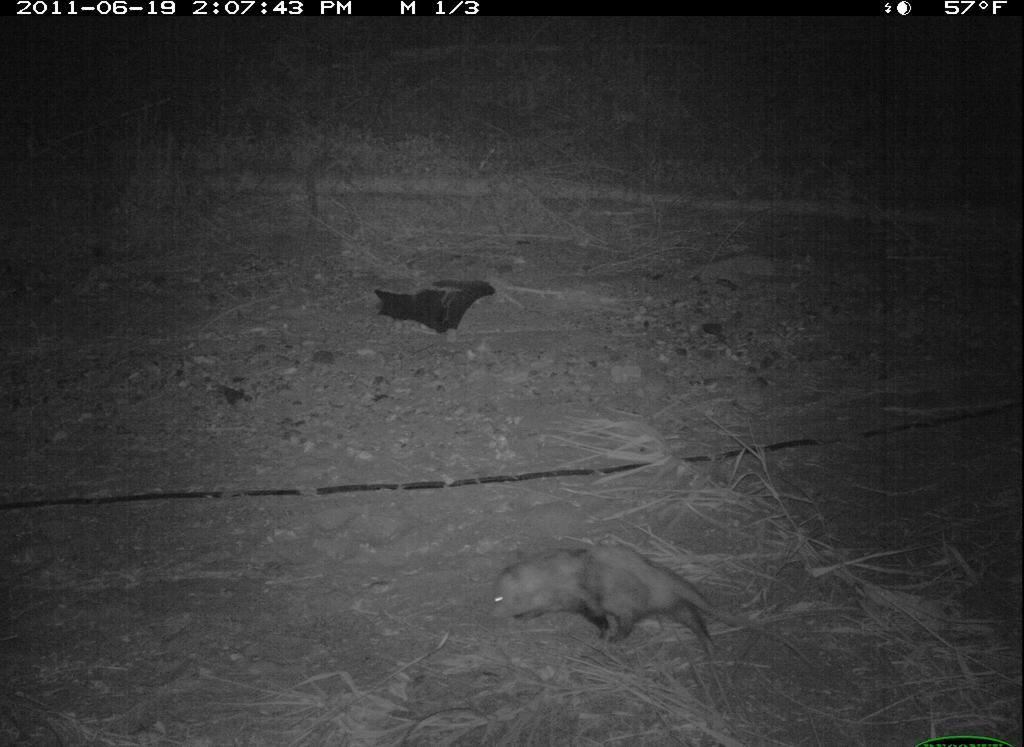opossum: (486, 541, 825, 675)
